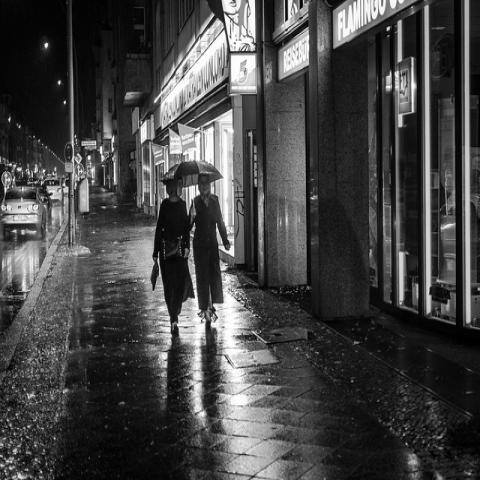car: (3, 187, 46, 232), (43, 179, 65, 205), (36, 186, 53, 213), (62, 178, 69, 196)
